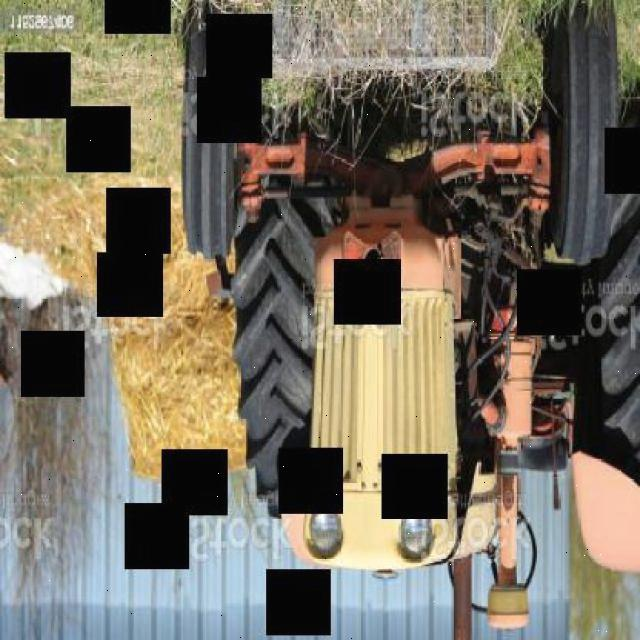Tratores - v5 YOLO V8L 2024-11-13: (135, 2, 639, 640)
